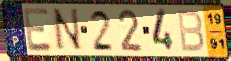2: (117, 8, 145, 54), (88, 9, 115, 52)
4: (151, 7, 178, 55)
B: (176, 9, 206, 54)
E: (22, 7, 54, 53)
N: (51, 7, 84, 53)
